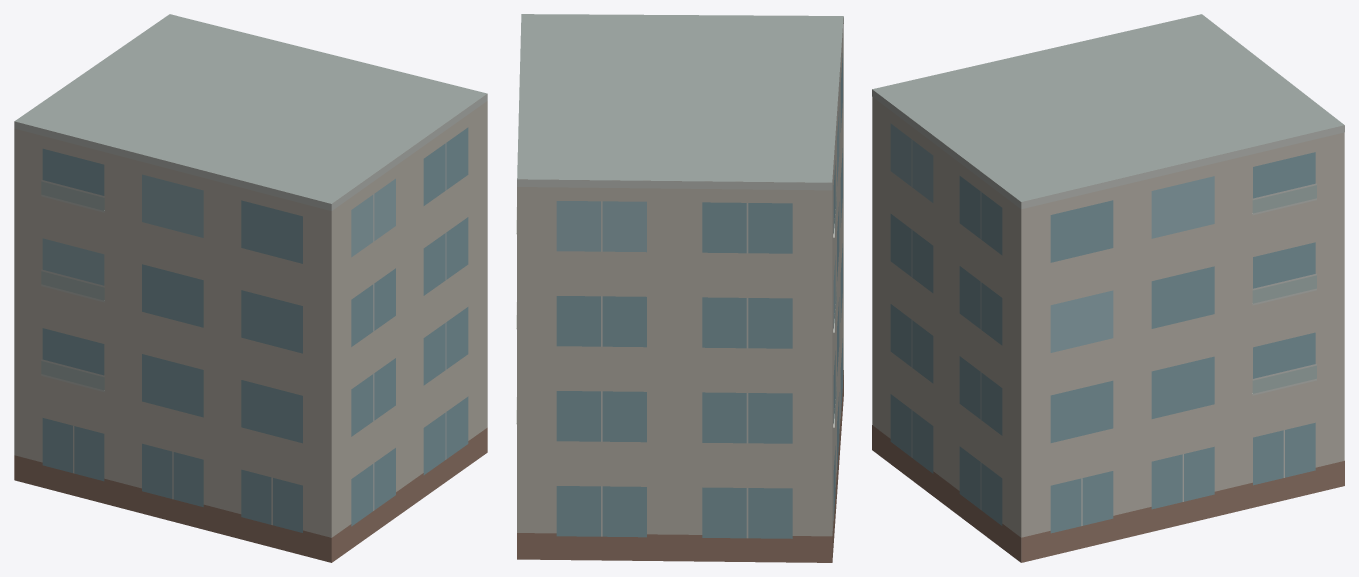
The model's file is survey-upis-32657459.glb.
3 renders of one model, left to right at view 1: azimuth 30°, elevation 25°; view 2: azimuth 150°, elevation 25°; view 3: azimuth 270°, elevation 25°, orthographic. The views are drawn at different scales.
Parts seen in each view (by area): view 1: survey-upis-32657459.tmp; view 2: survey-upis-32657459.tmp; view 3: survey-upis-32657459.tmp.
Part boxes in pixels (<box>): survey-upis-32657459.tmp: <box>14,14,487,562</box>; survey-upis-32657459.tmp: <box>516,14,843,562</box>; survey-upis-32657459.tmp: <box>872,14,1344,562</box>.
Bounding box in the file's own units: 13.65 × 12.2 × 14.5.
